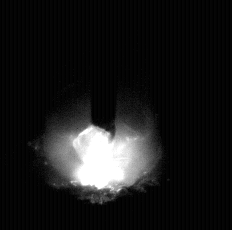arame: (91, 0, 117, 143)
poca: (42, 0, 162, 230)
